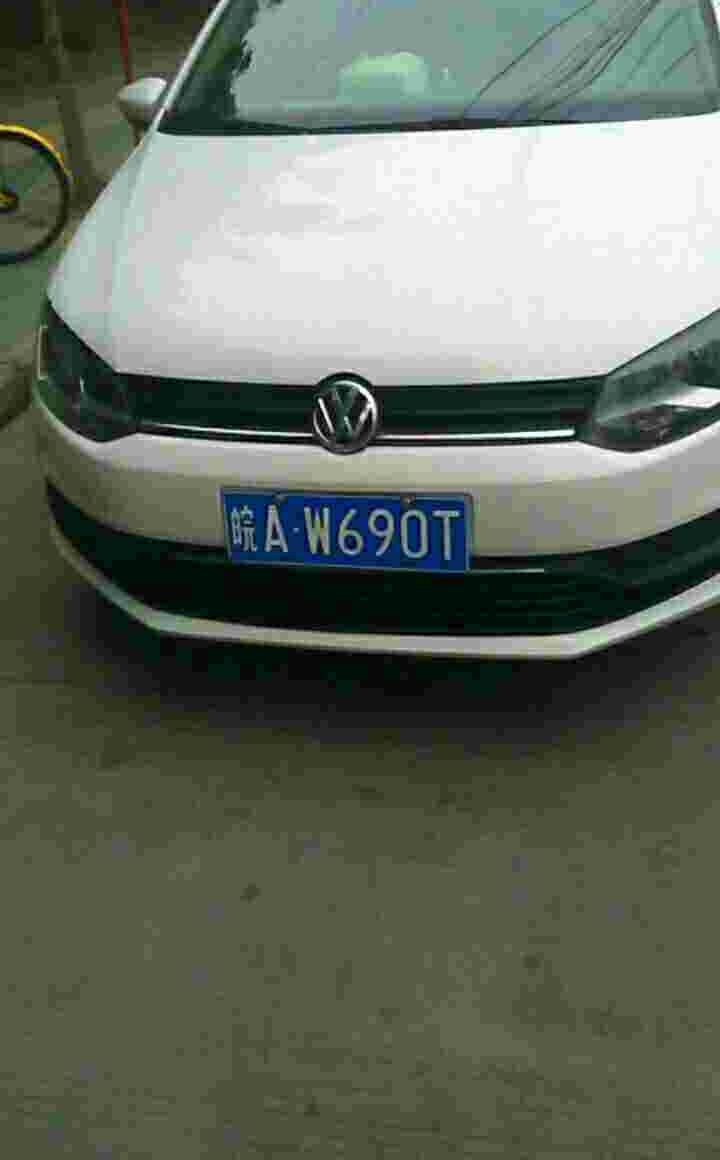plate: (222, 487, 474, 577)
